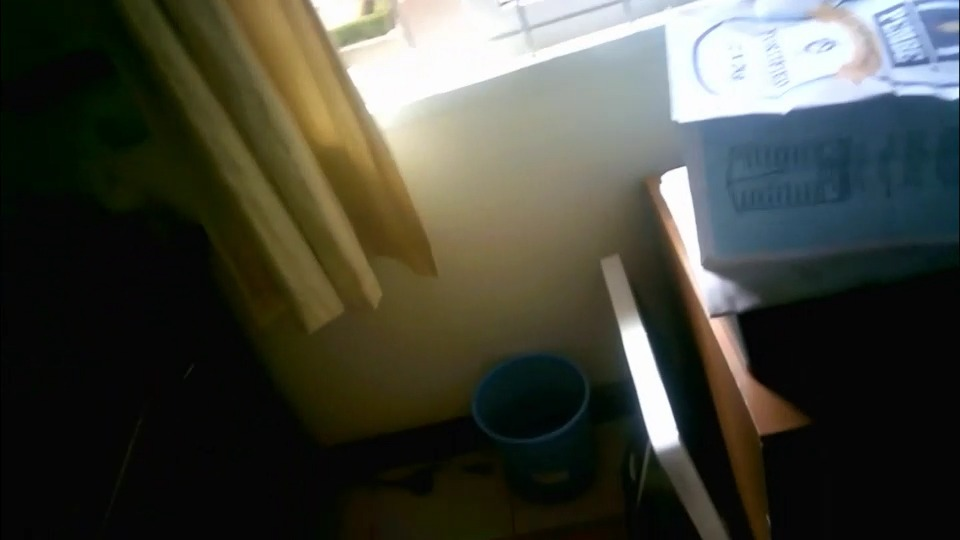wheat_flour_blue_label: (666, 2, 960, 268)
